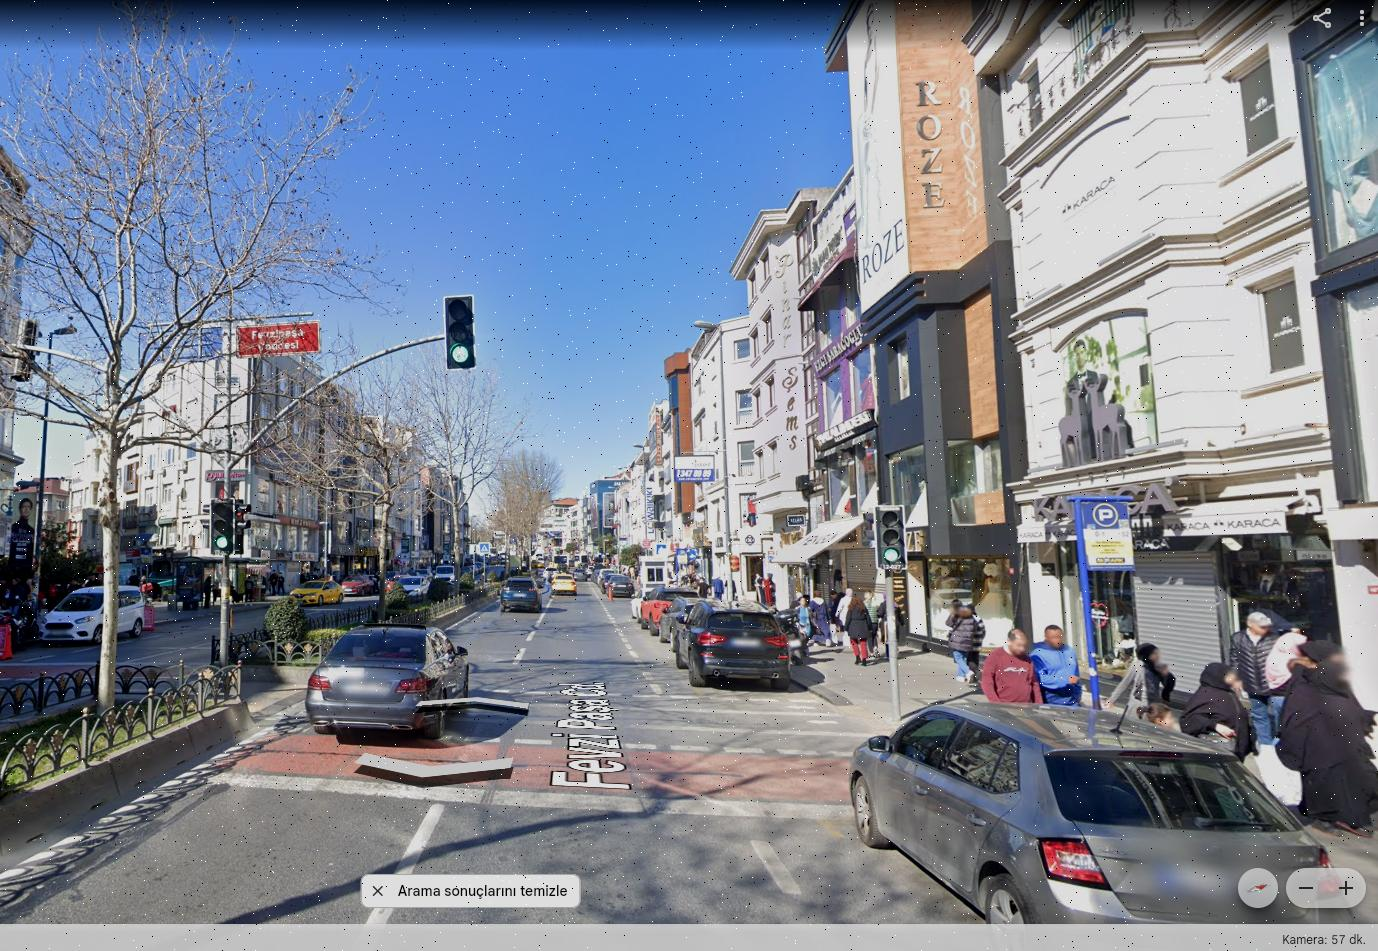greenlight: (444, 297, 476, 371), (876, 509, 903, 569), (210, 503, 230, 549)
